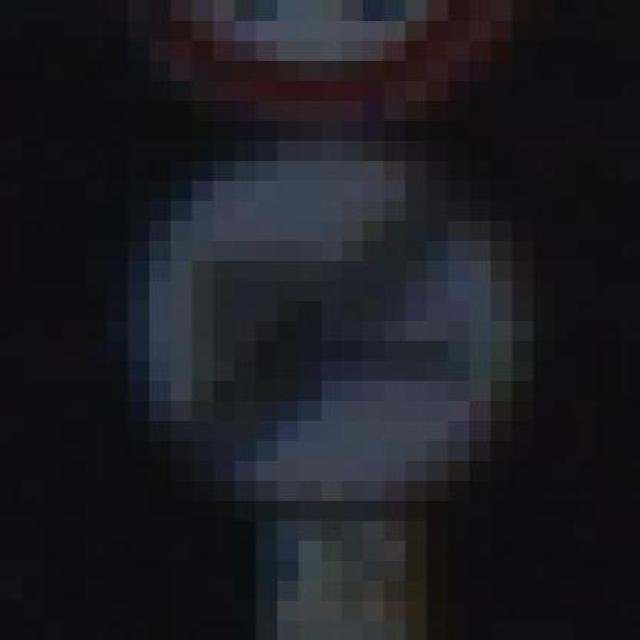Overtaking by trucks is prohibited: (86, 100, 554, 520)
